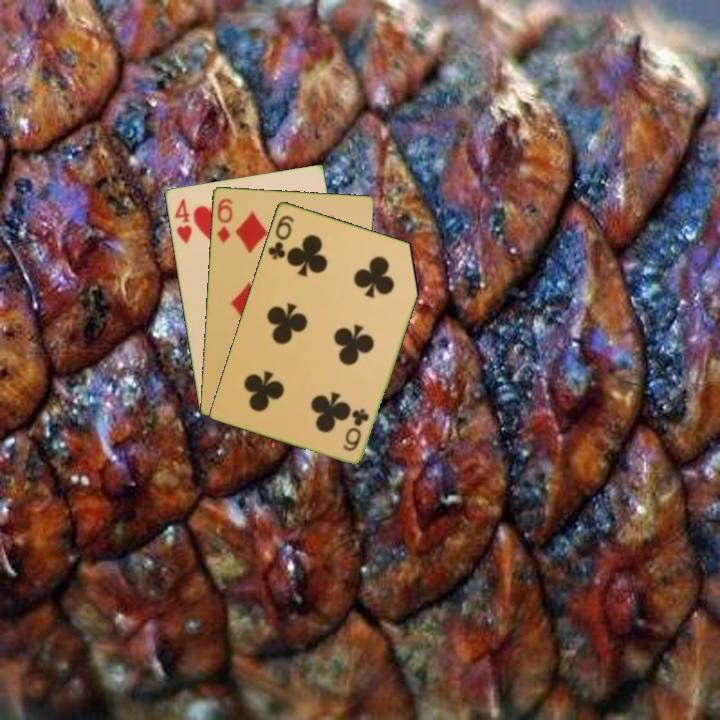4h: (171, 195, 194, 246)
6c: (264, 211, 297, 262), (340, 405, 372, 454)
6d: (213, 194, 235, 245)
